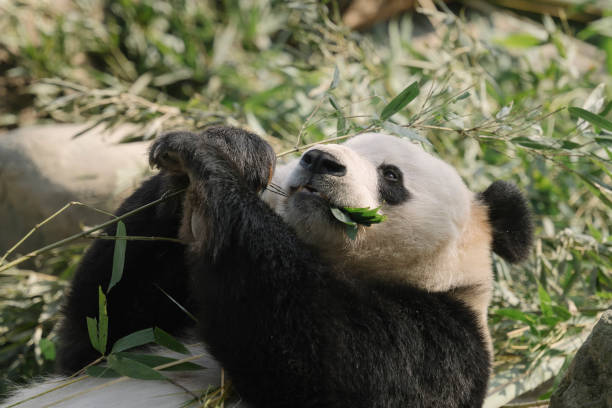panda: (249, 102, 550, 336)
